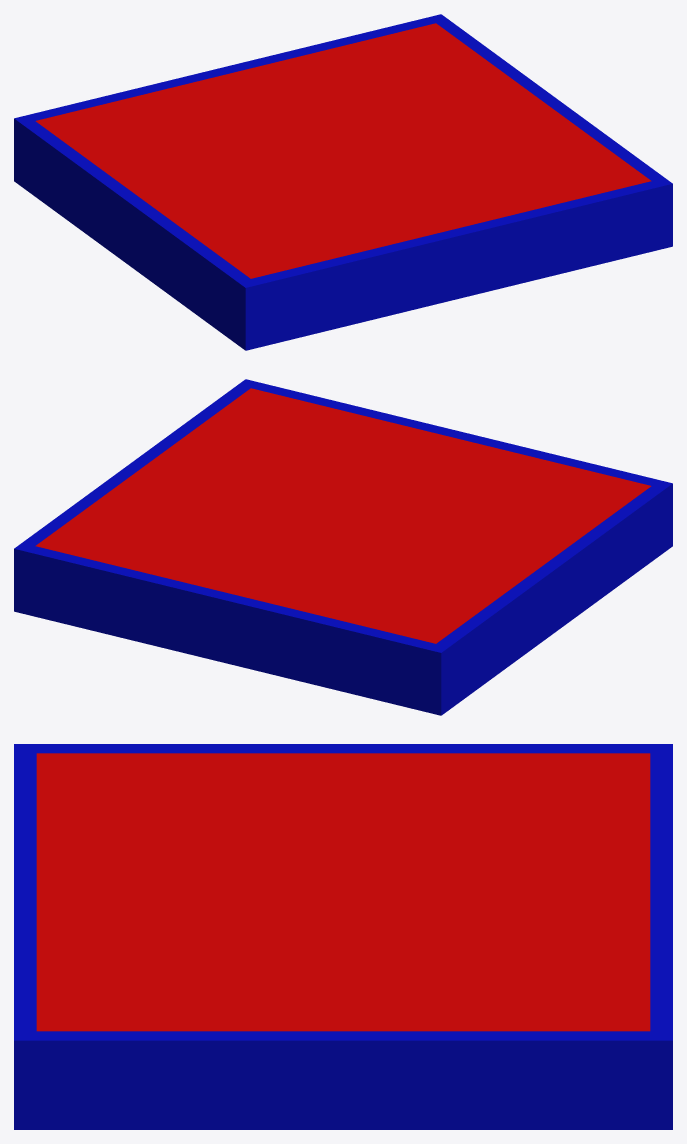
Rendered from PlateformeAscenseur.FBX.
3 renders of one model, top to bottom at view 1: azimuth 30°, elevation 25°; view 2: azimuth 150°, elevation 25°; view 3: azimuth 270°, elevation 25°, orthographic. The views are drawn at different scales.
Visible parts, largest first — view 1: PlateformeAscenseur; view 2: PlateformeAscenseur; view 3: PlateformeAscenseur.
Part boxes in pixels (box(x1,y1,x2,y2)): PlateformeAscenseur: box(14, 14, 672, 350); PlateformeAscenseur: box(14, 379, 672, 715); PlateformeAscenseur: box(14, 744, 672, 1129).
Bounding box in the file's own units: 101 × 14.21 × 94.91.
